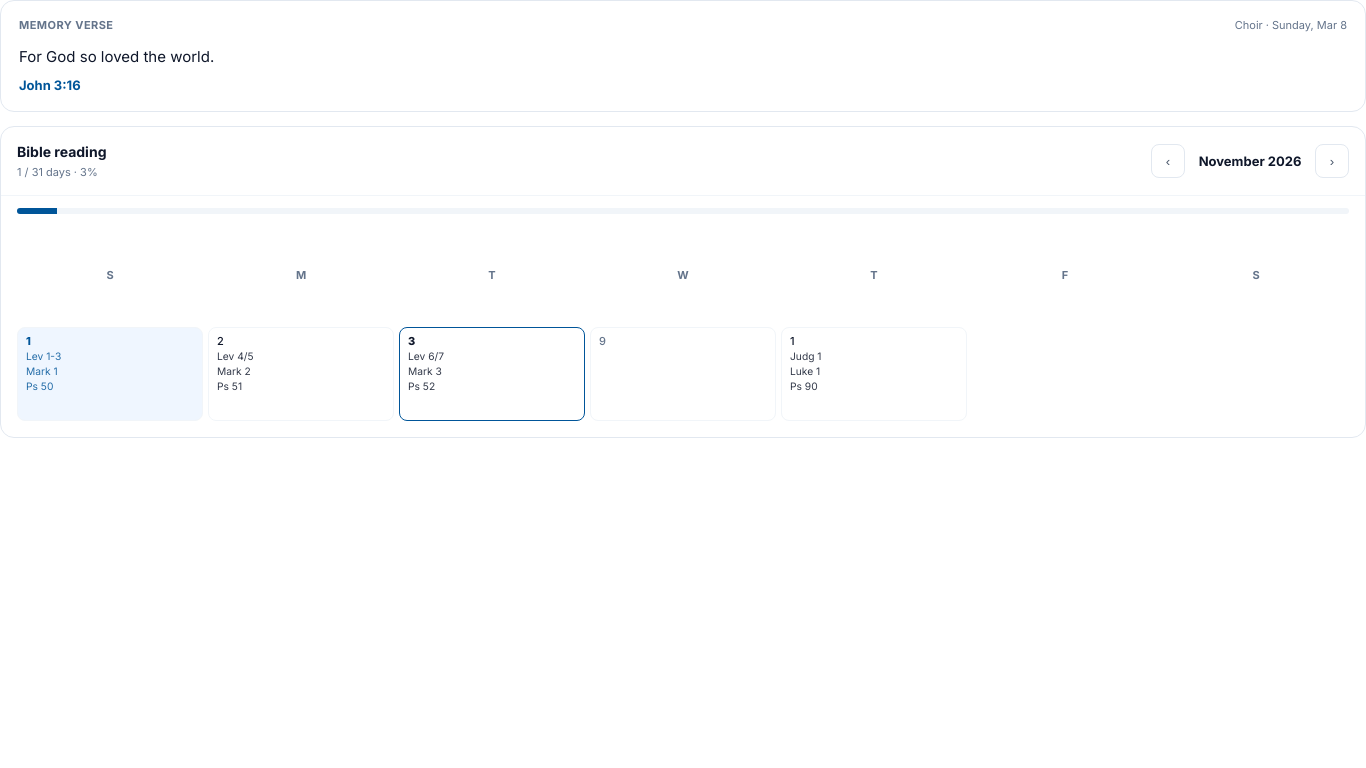
Scenario: explains an unpublished day and keeps future days unmarkable
Click the cell named "2026-03-09": (683, 374) [590,327,776,421]
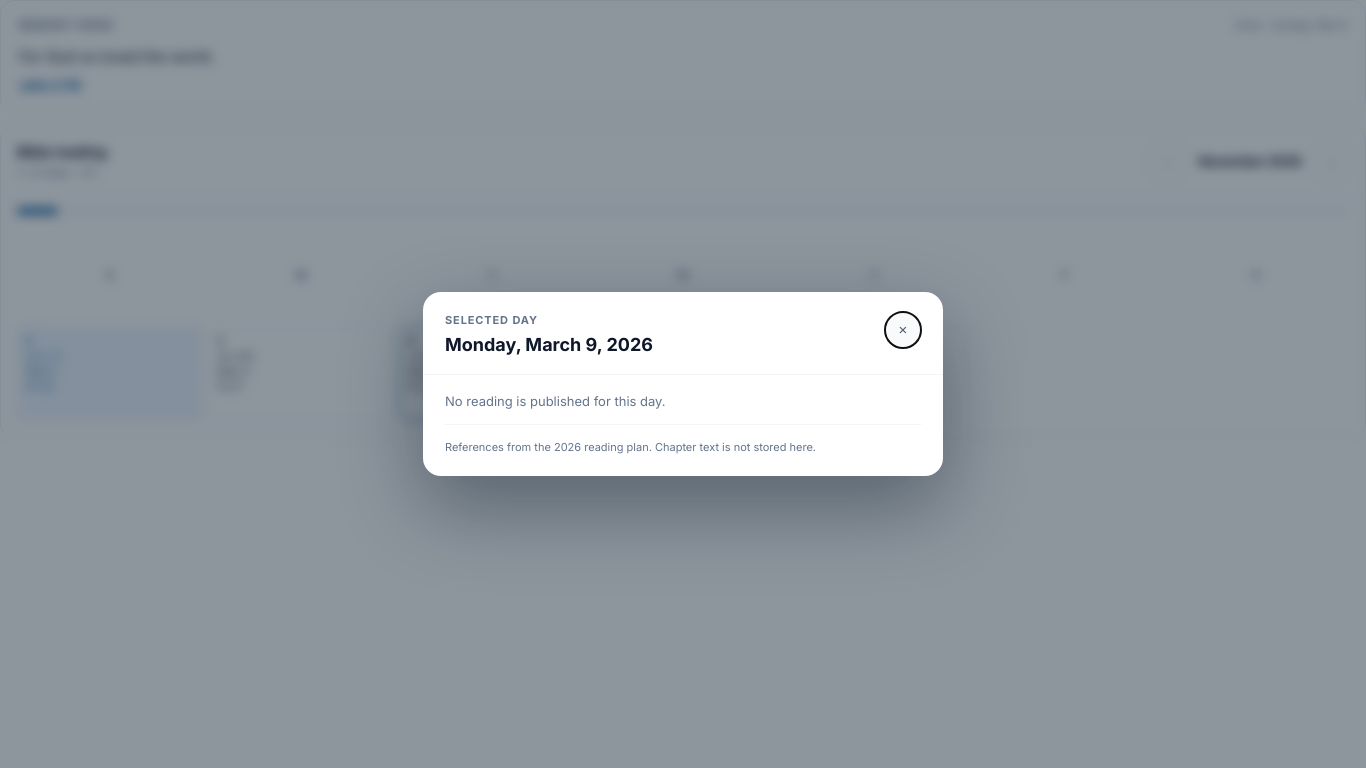
Expected: the text "No reading is published for this day." is shown, [445,393,666,409]
Click the button named "Close day readings": (903, 330) [885,312,921,348]
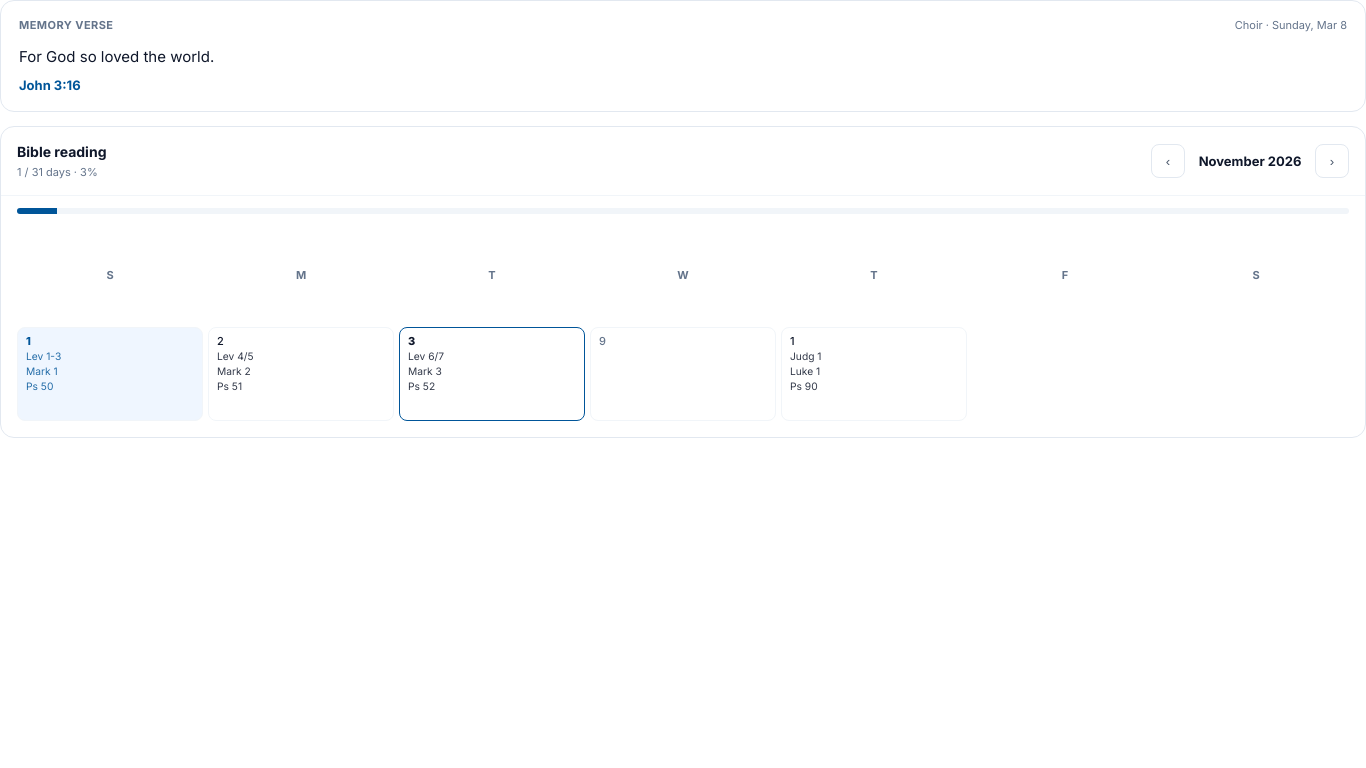
Click the cell named "2026-04-01": (874, 374) [781,327,967,421]
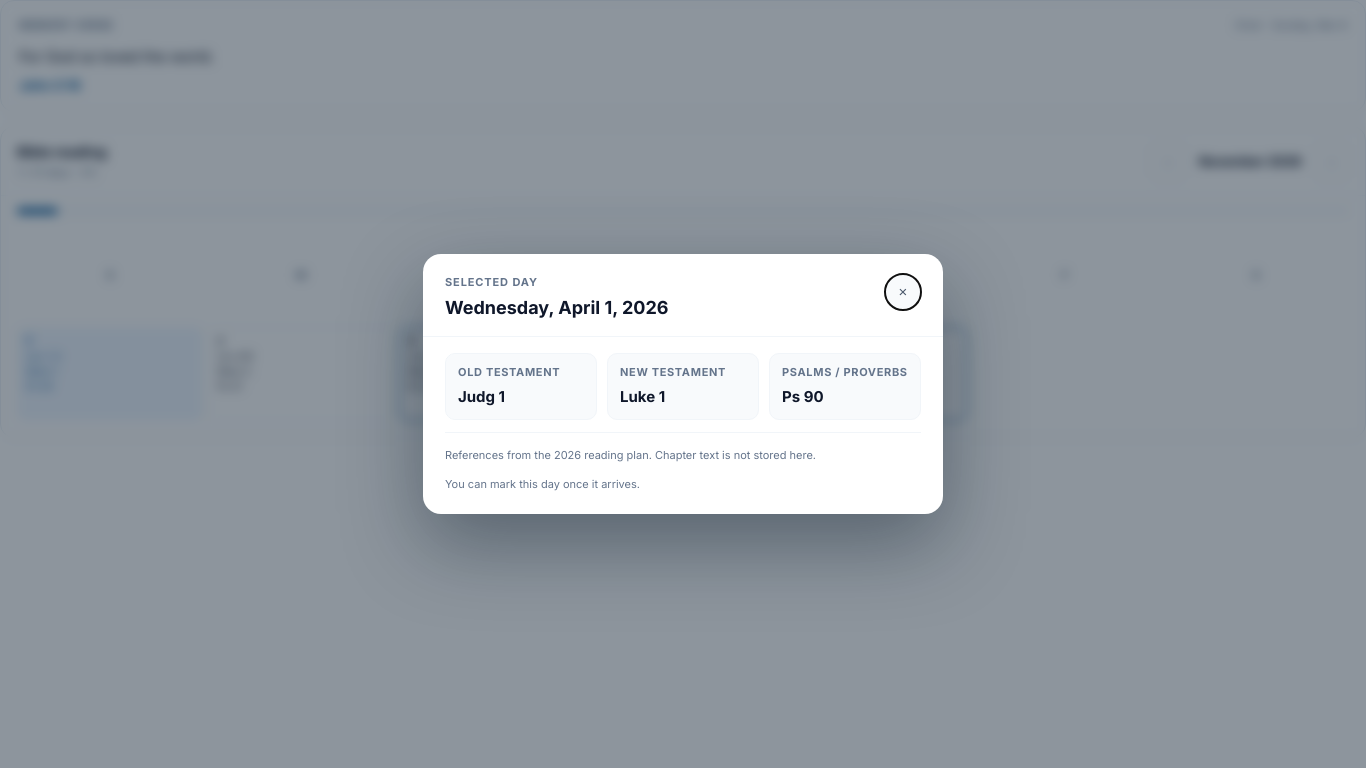
Expected: the text "Judg 1" is shown, [458,387,505,406]
